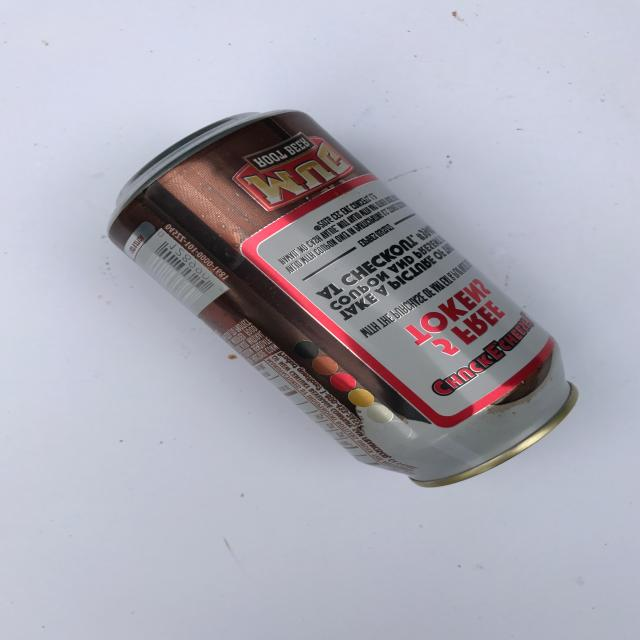metal: (106, 107, 578, 488)
